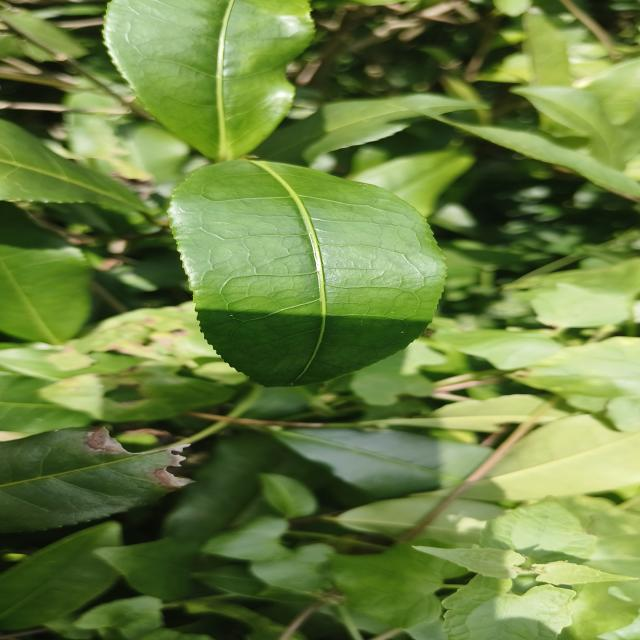Leaf: (169, 159, 445, 386), (104, 0, 314, 161), (0, 427, 190, 532), (434, 116, 640, 199), (254, 93, 481, 163), (467, 414, 640, 500), (274, 429, 489, 498), (0, 120, 147, 212), (0, 521, 121, 631), (0, 202, 92, 345), (514, 86, 622, 168), (353, 147, 474, 217), (95, 538, 198, 600), (523, 8, 571, 86)
